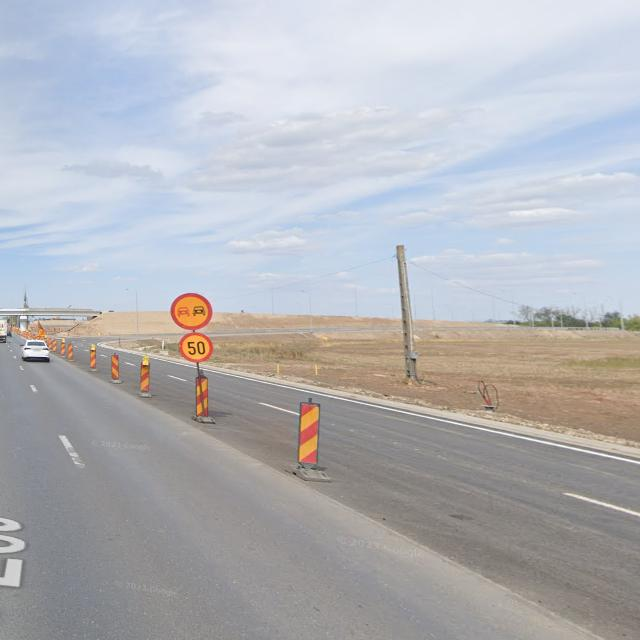forb_overtake: (170, 292, 212, 331)
forb_speed_over_50: (180, 332, 213, 364)
